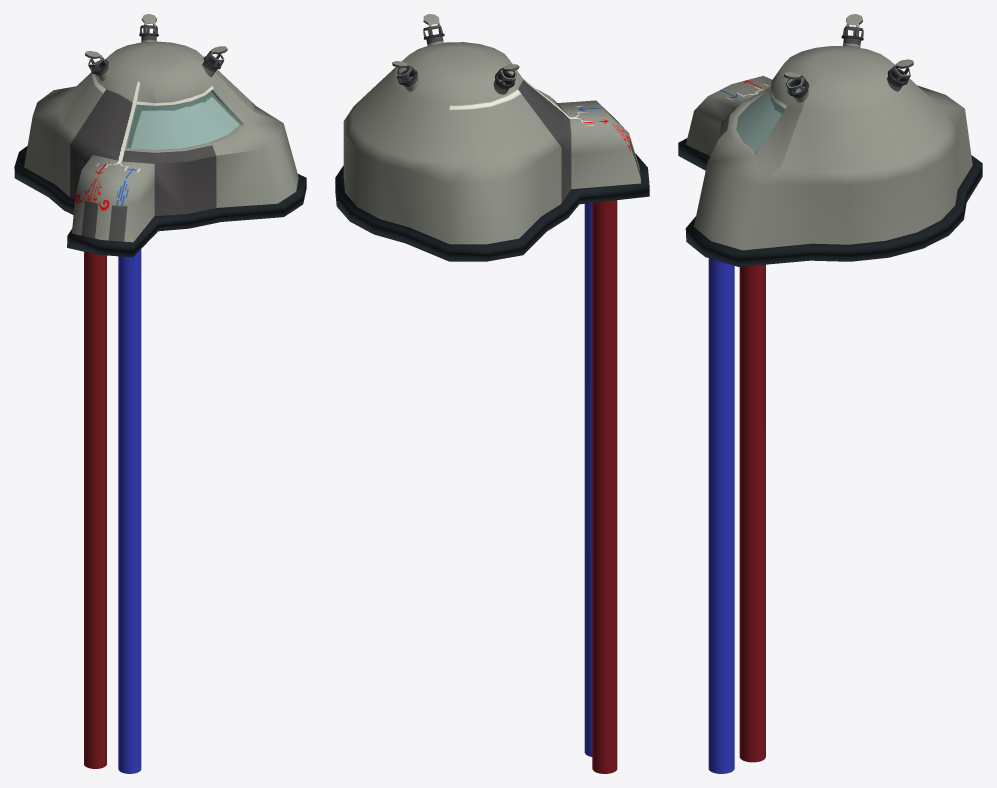
File: water.fbx
The picture shows the model from 3 angles, left to right: view 1: azimuth 30°, elevation 25°; view 2: azimuth 150°, elevation 25°; view 3: azimuth 270°, elevation 25°; orthographic projection. The views are drawn at different scales.
Visible parts, largest first — view 1: resourbuildes_and:resourbuildes_and:builden1:polySurface1; view 2: resourbuildes_and:resourbuildes_and:builden1:polySurface1; view 3: resourbuildes_and:resourbuildes_and:builden1:polySurface1.
Part boxes in pixels (x1,y1,x2,y2): resourbuildes_and:resourbuildes_and:builden1:polySurface1: (14,14,306,773); resourbuildes_and:resourbuildes_and:builden1:polySurface1: (335,14,649,773); resourbuildes_and:resourbuildes_and:builden1:polySurface1: (678,14,982,773).
Size of the model in its own units: 35.52 by 94.72 by 34.27.
